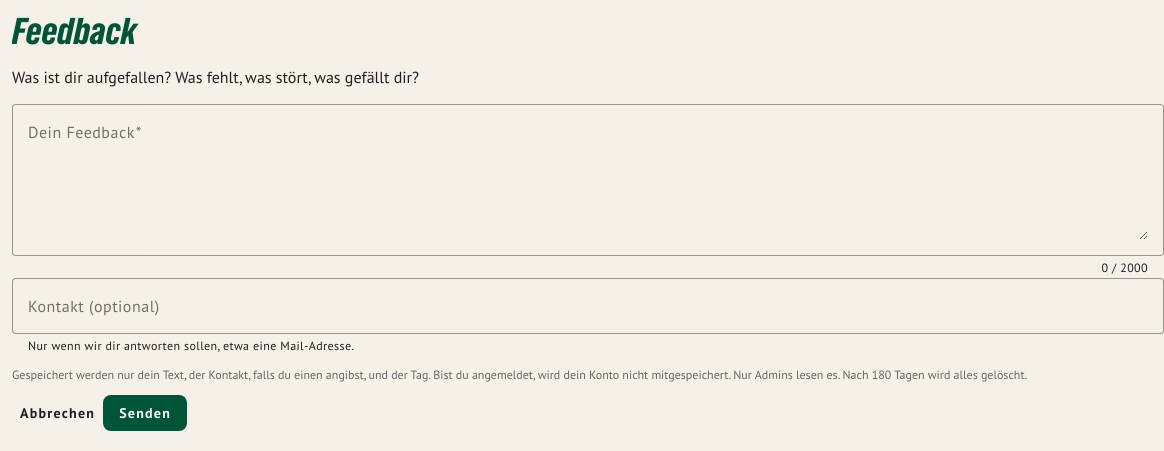
Test: FeedbackDialogComponent › sendet Text und Kontakt und bedankt sich
Type "Kopieren klappt mobil nicht" into the text box named "text".
click(588, 180); type("Kopieren klappt mobil nicht")  # box [28, 120, 1148, 240]
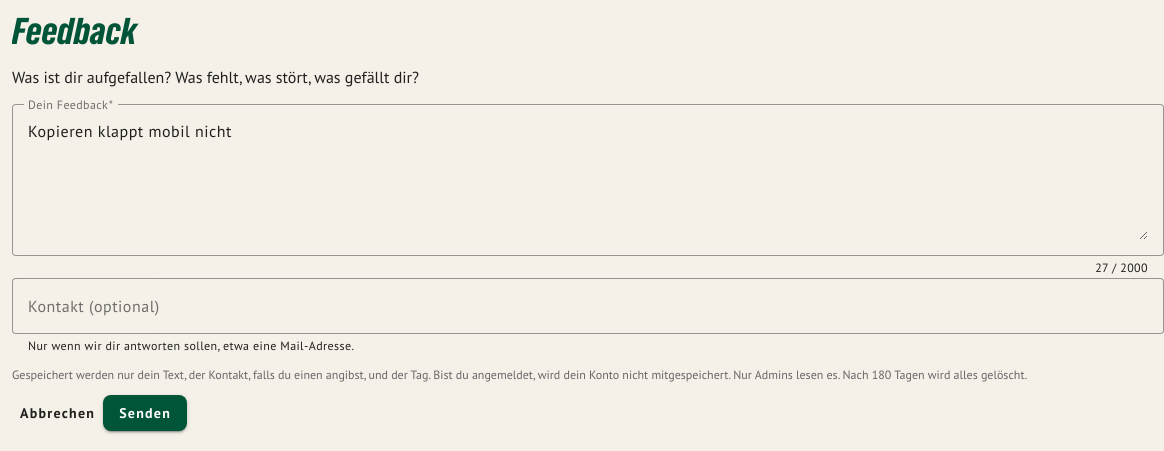
Type "anna@example.org" into the field named "kontakt".
click(588, 306); type("anna@example.org")  # box [28, 294, 1148, 318]
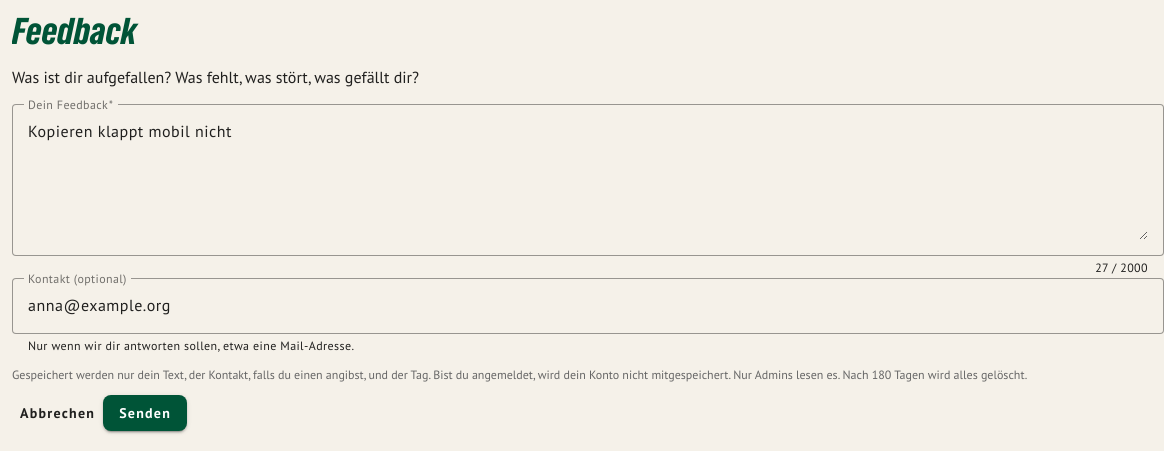
Click the button with test id "feedback-senden".
click(145, 413)  # box [103, 395, 187, 431]
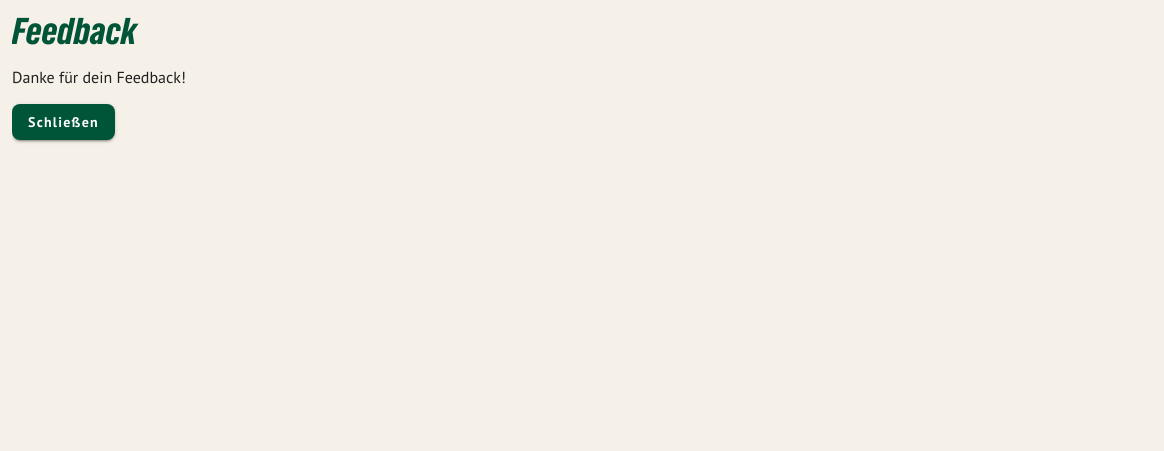
Now the text "Danke" is shown, box [12, 69, 186, 87]
Now the text box is gone
